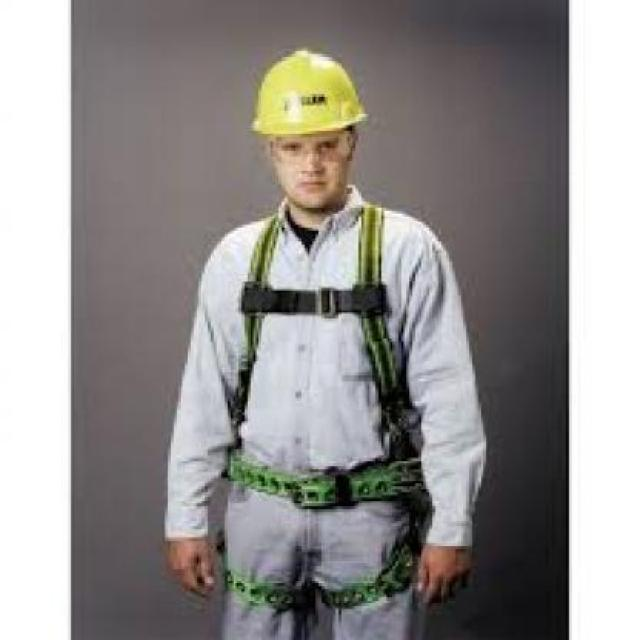Belt: (217, 201, 428, 622)
